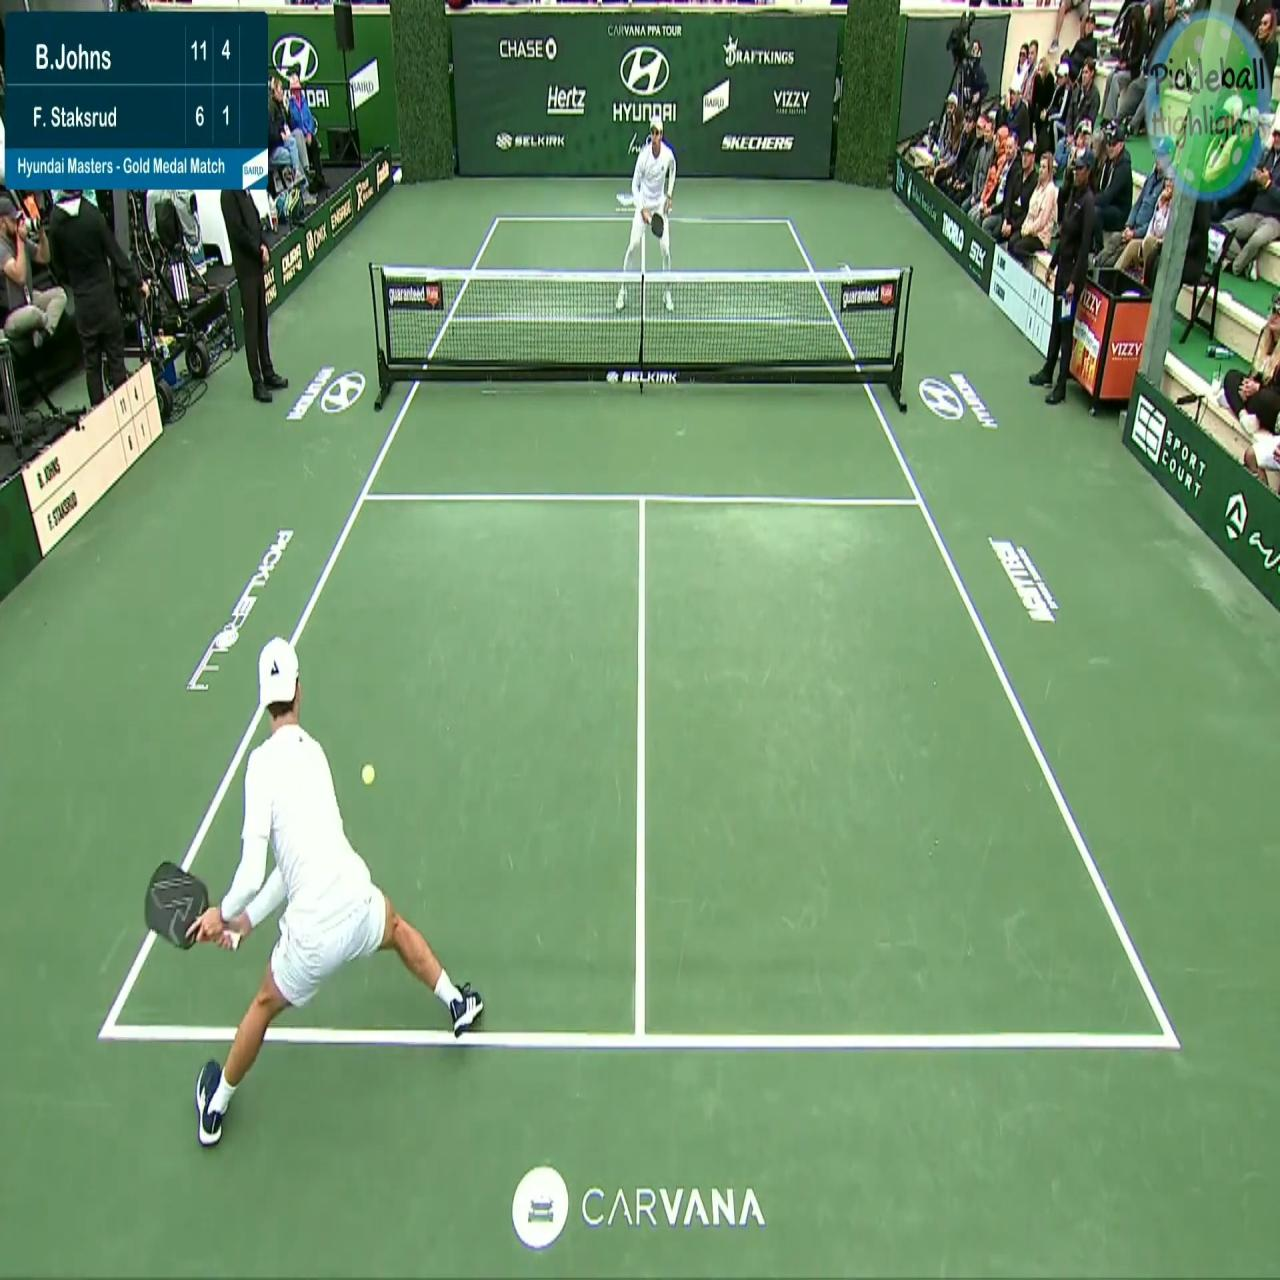pickleball: (361, 763, 375, 785)
